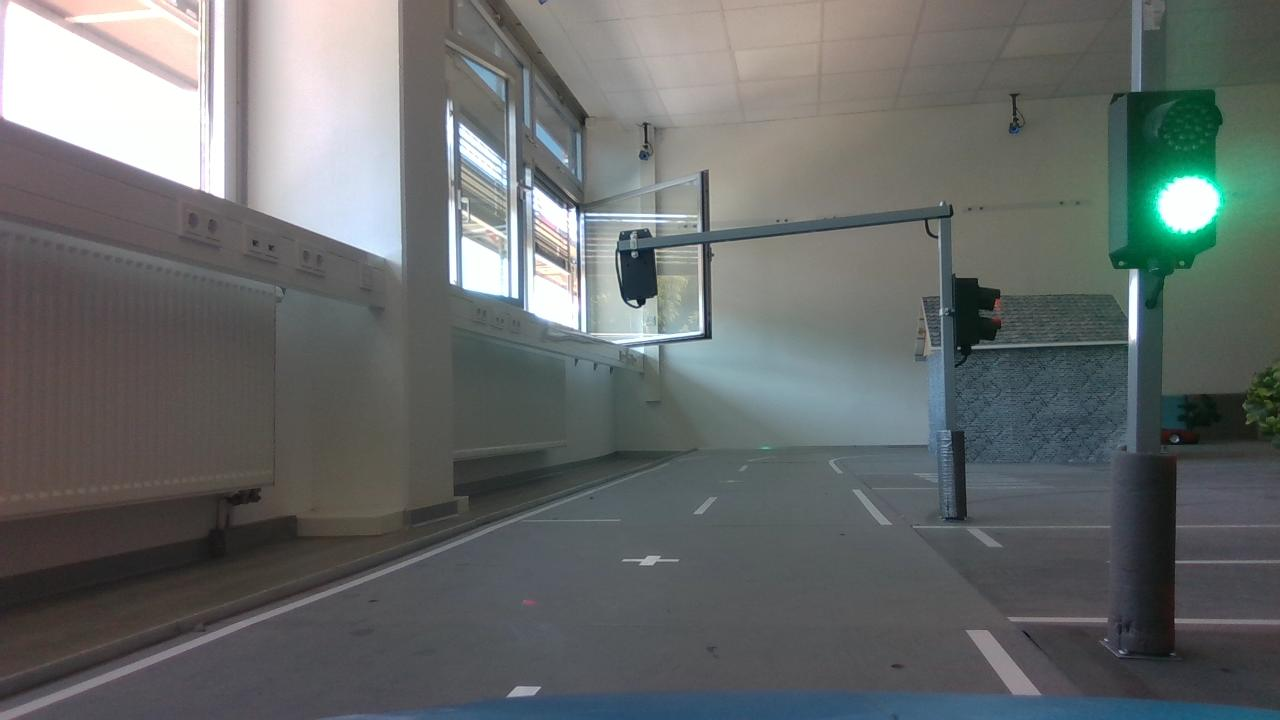traffic_light_green: (1093, 72, 1242, 300)
